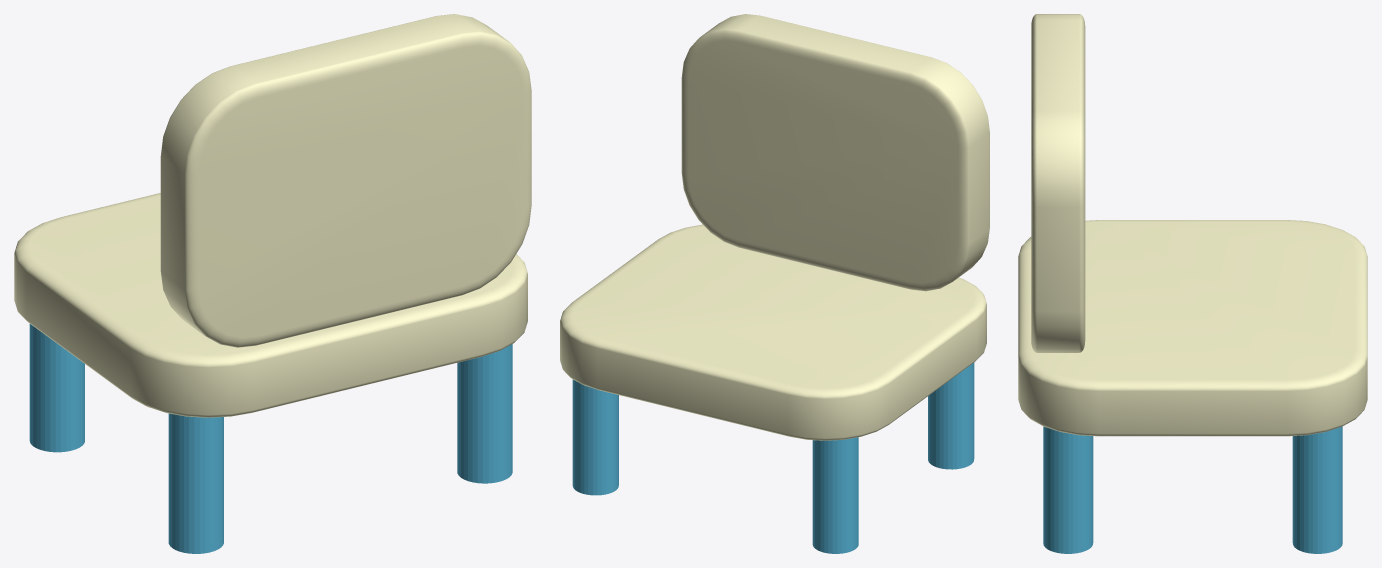
File: Chair.fbx
3 views of the same model, side by side, from view 1: azimuth 30°, elevation 25°; view 2: azimuth 150°, elevation 25°; view 3: azimuth 270°, elevation 25° (orthographic). The views are drawn at different scales.
Visible parts, largest first — view 1: Cube.006; view 2: Cube.006; view 3: Cube.006.
Part boxes in pixels (x1,y1,x2,y2): Cube.006: [14, 14, 531, 553]; Cube.006: [560, 14, 989, 553]; Cube.006: [1018, 14, 1367, 553].
Size of the model in its own units: 0.8 by 0.916 by 0.7.
